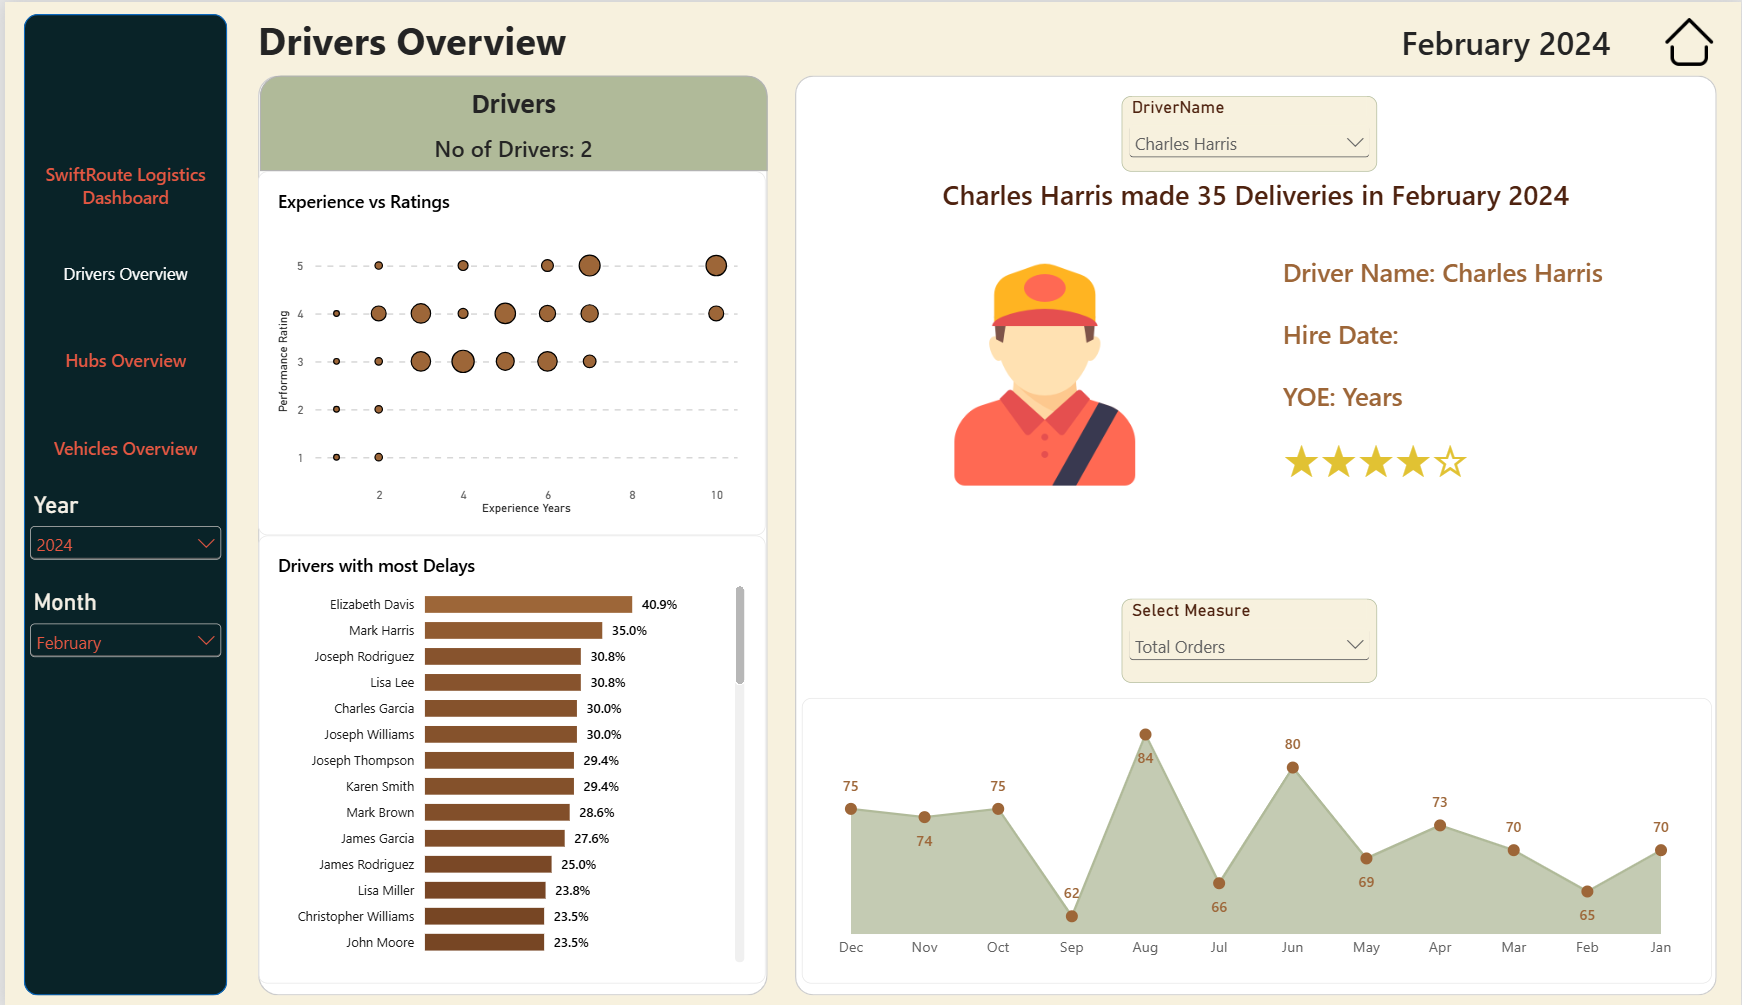

The page's visual inventory and layout, read from the dashboard file:
{"tool":"powerbi","page":{"name":"Drivers Overview","canvas":[1450,840],"ordinal":1},"visuals":[{"type":"shape","box":[16,10,170,820],"z":0},{"type":"textbox","box":[211.7,10,343.3,48.3],"z":1000},{"type":"slicer","fields":{"Values":["Date Table.Year"]},"box":[16,408,170,90],"z":2000},{"type":"slicer","fields":{"Values":["Date Table.Month"]},"box":[16,490,170,78],"z":3000},{"type":"shape","box":[211.4,61.4,425.7,768.6],"z":4000},{"type":"textbox","box":[585.9,238.3,380,40],"z":5000},{"type":"shape","box":[212.9,61.4,424.3,80],"z":6000},{"type":"textbox","box":[212.9,70,424.3,32.9],"z":7000},{"type":"cardVisual","fields":{"Data":["Drivers.No of Drivers"]},"box":[212.9,102.9,424.3,38.6],"z":8000},{"type":"scatterChart","title":"Experience vs Ratings","fields":{"Size":["Sum(Drivers.Experience Years)1"],"X":["Drivers.Experience Years"],"Y":["Drivers.Performance Rating"]},"box":[212,142,424,304],"z":9000},{"type":"barChart","title":"Drivers with most Delays","fields":{"Category":["Drivers.DriverName"],"Y":["Orders.Delayed Delivery Rate"]},"box":[212,446,424,374],"z":10000},{"type":"cardVisual","fields":{"Data":["Orders.Year Mont Title"]},"box":[1131.4,10,245.7,47.1],"z":11000},{"type":"shape","box":[660,61.4,770,768.6],"z":12000},{"type":"slicer","fields":{"Values":["Drivers.DriverName"]},"box":[933.3,78.3,213.3,63.3],"z":13000},{"type":"cardVisual","fields":{"Data":["Drivers.Drivers Title"]},"box":[660,141.4,770,38.6],"z":14000},{"type":"cardVisual","fields":{"Data":["Drivers.Driver Name Title","Drivers.Hire Date Title","Drivers.YOE","Drivers.Star Rating"]},"box":[1051.4,202.9,311.4,200],"z":15000},{"type":"image","box":[775.7,202.9,185.7,217.1],"z":16000},{"type":"areaChart","fields":{"Category":["Date Table.Month Abr"],"Y":["Orders.Total Orders"]},"box":[665.7,581.4,760,238.6],"z":17000},{"type":"slicer","fields":{"Values":["Select Measure.Select Measure"]},"box":[933.3,498.3,213.3,70],"z":18000},{"type":"image","box":[1384.3,10,45.7,47.1],"z":19000},{"type":"pageNavigator","box":[16,122,170,286],"z":20000}]}

Visuals, with their boxes in screenshot pixels (x1, y1, x2, y2), scaled from the page's 1450x840 canvas onto the 1742x1005 screenshot:
shape: <region>19, 12, 223, 993</region>
textbox: <region>254, 12, 667, 70</region>
slicer - Date Table.Year: <region>19, 488, 223, 596</region>
slicer - Date Table.Month: <region>19, 586, 223, 680</region>
shape: <region>254, 73, 765, 993</region>
textbox: <region>704, 285, 1160, 333</region>
shape: <region>256, 73, 766, 169</region>
textbox: <region>256, 84, 766, 123</region>
cardVisual - Drivers.No of Drivers: <region>256, 123, 766, 169</region>
"Experience vs Ratings" scatterChart: <region>255, 170, 764, 534</region>
"Drivers with most Delays" barChart: <region>255, 534, 764, 981</region>
cardVisual - Orders.Year Mont Title: <region>1359, 12, 1654, 68</region>
shape: <region>793, 73, 1718, 993</region>
slicer - Drivers.DriverName: <region>1121, 94, 1378, 169</region>
cardVisual - Drivers.Drivers Title: <region>793, 169, 1718, 215</region>
cardVisual - Drivers.Driver Name Title x Drivers.Hire Date Title: <region>1263, 243, 1637, 482</region>
image: <region>932, 243, 1155, 502</region>
areaChart - Date Table.Month Abr x Orders.Total Orders: <region>800, 696, 1713, 981</region>
slicer - Select Measure.Select Measure: <region>1121, 596, 1378, 680</region>
image: <region>1663, 12, 1718, 68</region>
pageNavigator: <region>19, 146, 223, 488</region>
